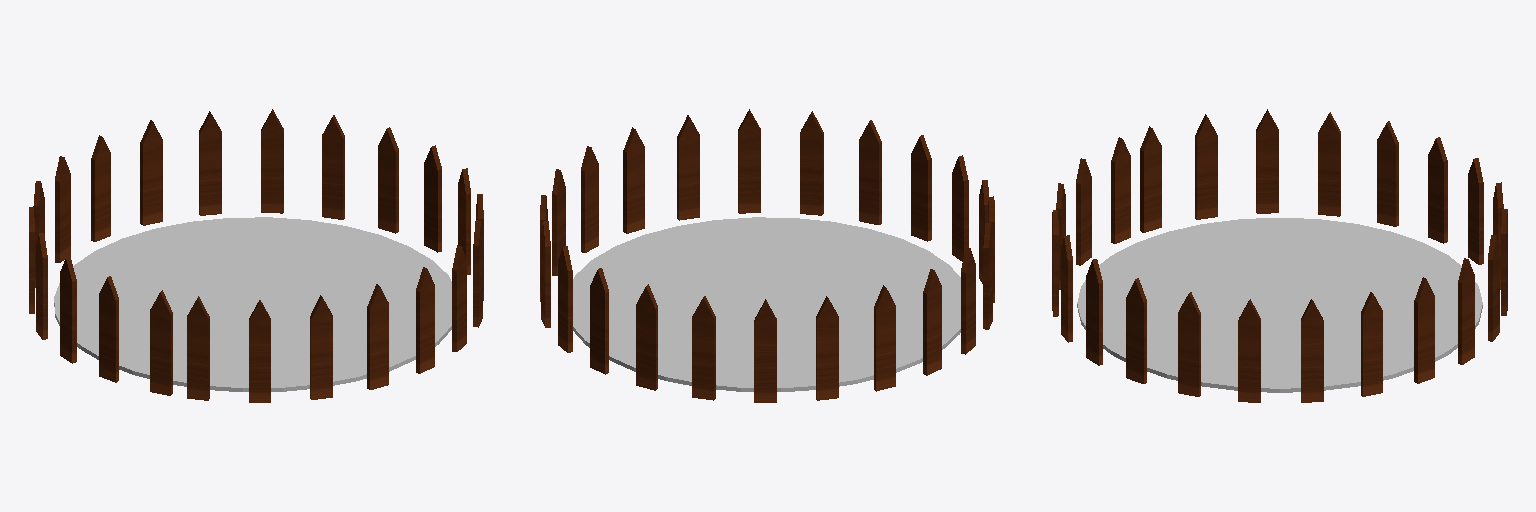
The picture shows the model from 3 angles: view 1: azimuth 30°, elevation 25°; view 2: azimuth 150°, elevation 25°; view 3: azimuth 270°, elevation 25°; orthographic projection.
Parts seen in each view (by area): view 1: Circle.001_Circle.002, Fence_Cube.001; view 2: Circle.001_Circle.002, Fence_Cube.001; view 3: Circle.001_Circle.002, Fence_Cube.001.
Boxes of the visible parts, <box> form: Circle.001_Circle.002: <box>54,217,451,391</box>; Fence_Cube.001: <box>29,109,483,402</box>; Circle.001_Circle.002: <box>573,217,960,391</box>; Fence_Cube.001: <box>540,109,994,402</box>; Circle.001_Circle.002: <box>1077,218,1482,392</box>; Fence_Cube.001: <box>1052,109,1507,402</box>.
Bounding box in the file's own units: 2.02 × 0.5 × 2.02.
Materials: 2 (1 with a texture image).